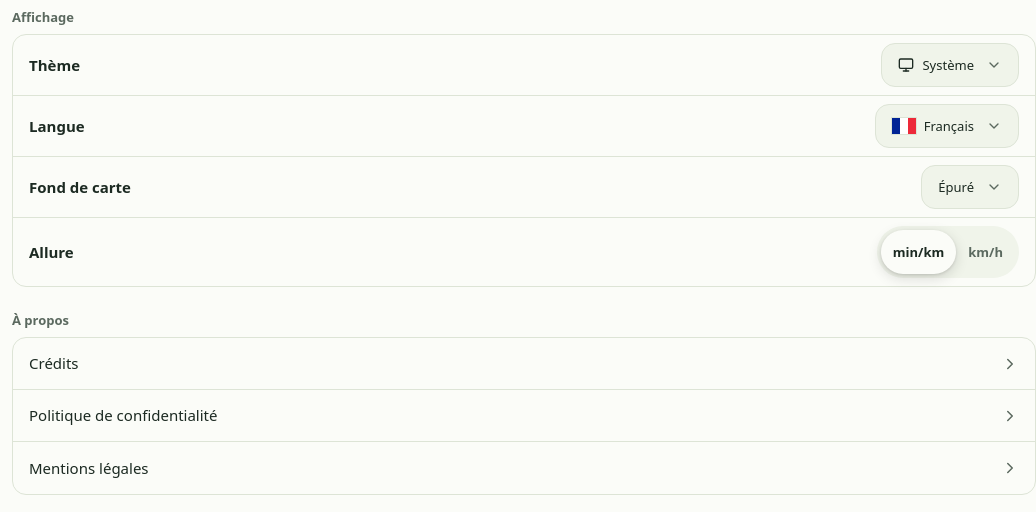
Scenario: SettingsView › names the map backgrounds in French
Click the dropdown with test id "settings-basemap" at (970, 187), box x1=921 y1=165 x2=1019 y2=209
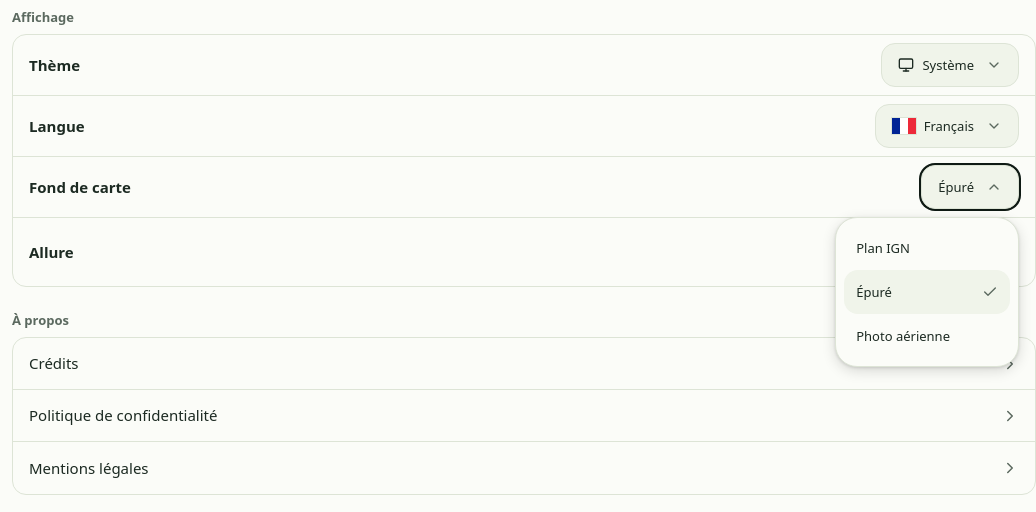
Check: the option with test id "settings-basemap-aerial" reads "Photo aérienne", box x1=856 y1=327 x2=950 y2=345
